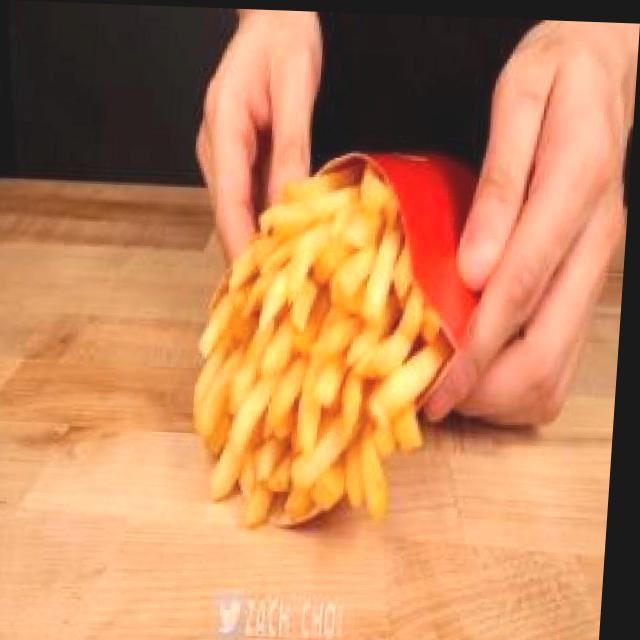french fries: (177, 128, 472, 544)
